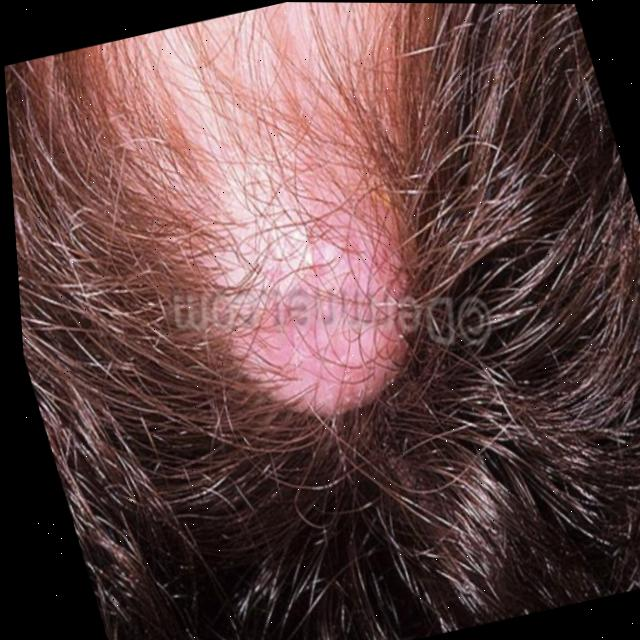Eczema: (162, 193, 440, 458)
